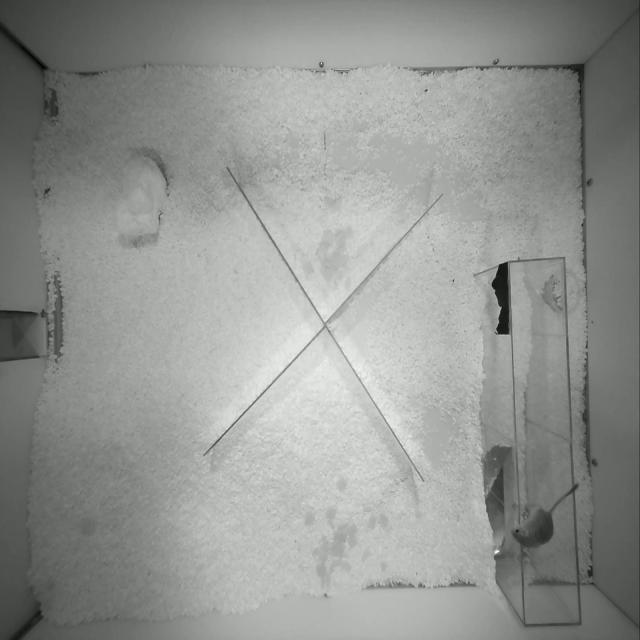pup_fluffy: (512, 484, 578, 547)
